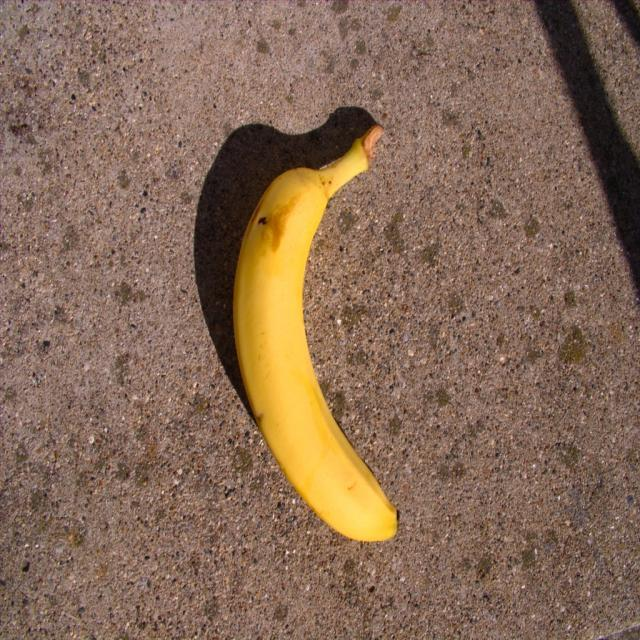Banana: (227, 120, 400, 544)
